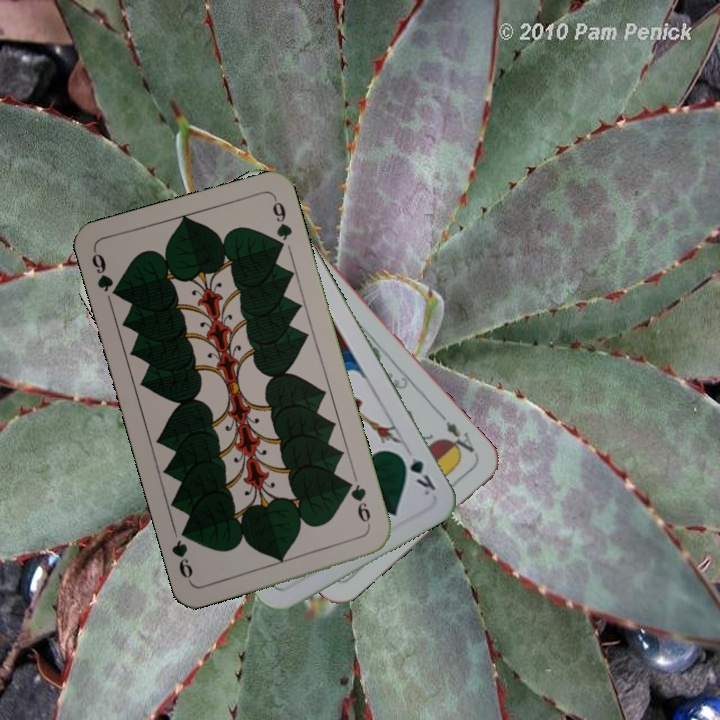EA: (436, 411, 478, 460)
G9: (87, 247, 124, 301), (342, 476, 374, 532)
GK: (395, 449, 439, 498)
